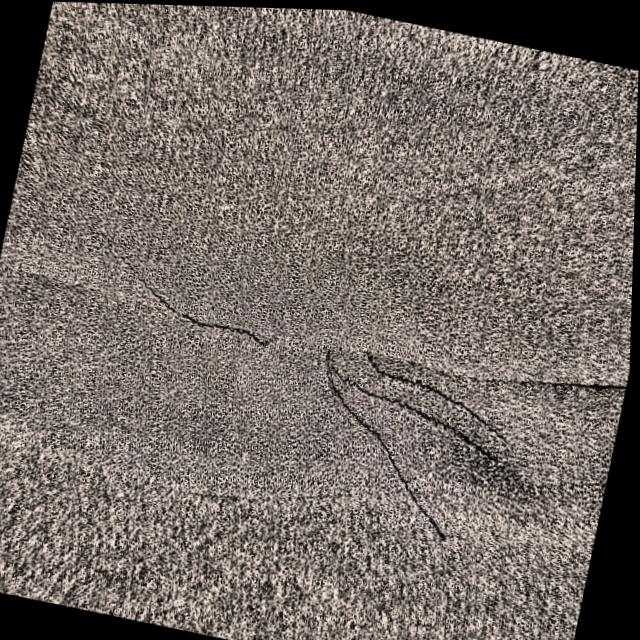Stitch: (69, 244, 542, 574)
